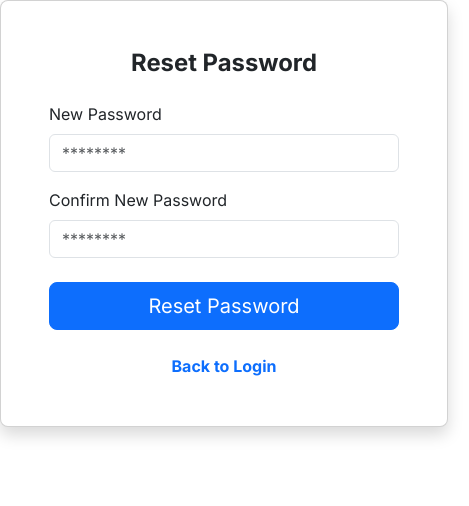
ResetPasswordForm › shows validation error for new password less than 6 characters
Type "short" into the password field labelled "New Password".
click(224, 153); type("short")  # box [49,134,399,172]
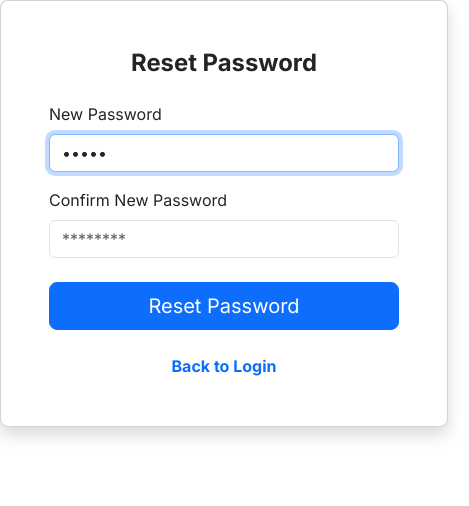
Click the button "Reset Password".
click(224, 306)  # box [49,282,399,330]
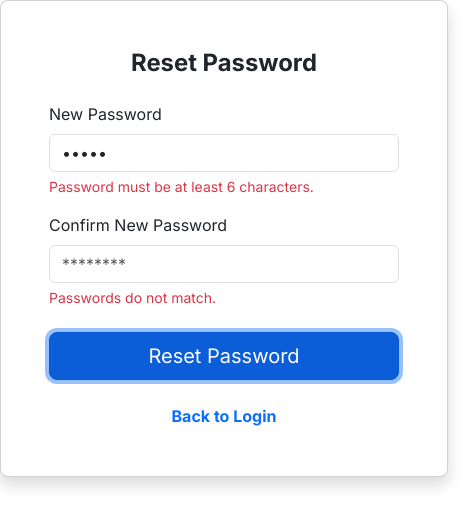
Expected: the text "Password must be at least 6 characters." is shown, [49,178,314,195]
